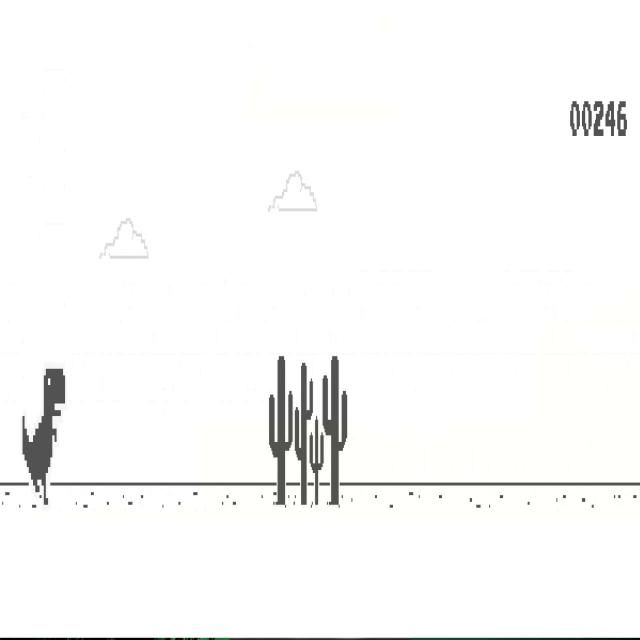cacto: (322, 355, 348, 507), (269, 354, 293, 506), (294, 362, 313, 506), (309, 416, 324, 506)
dino: (22, 368, 66, 506)
